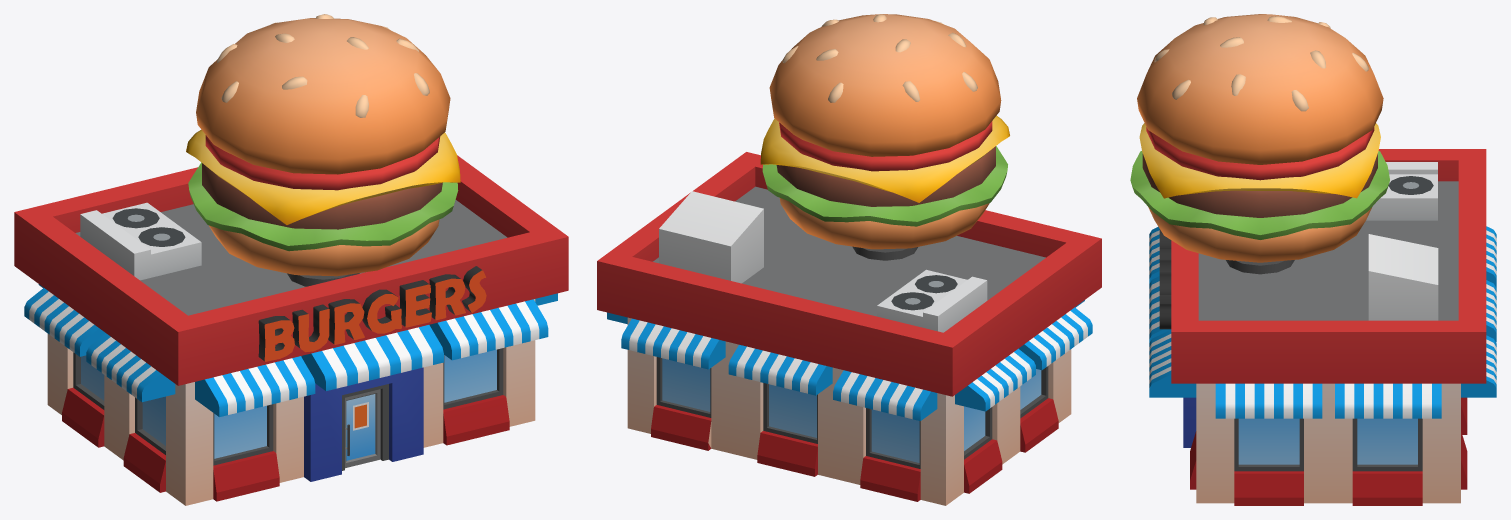
Rendered from burger_shop_001.glb.
The picture shows the model from 3 angles, left to right: view 1: azimuth 30°, elevation 25°; view 2: azimuth 150°, elevation 25°; view 3: azimuth 270°, elevation 25°; orthographic projection. The views are drawn at different scales.
Parts seen in each view (by area): view 1: burger_shop_001; view 2: burger_shop_001; view 3: burger_shop_001.
Part boxes in pixels (x1=…): burger_shop_001: x1=14, y1=14, x2=568, y2=505; burger_shop_001: x1=597, y1=14, x2=1101, y2=505; burger_shop_001: x1=1130, y1=14, x2=1496, y2=505.
Bounding box in the file's own units: 13.21 × 12.33 × 10.48.
2 materials, 2 textured.
